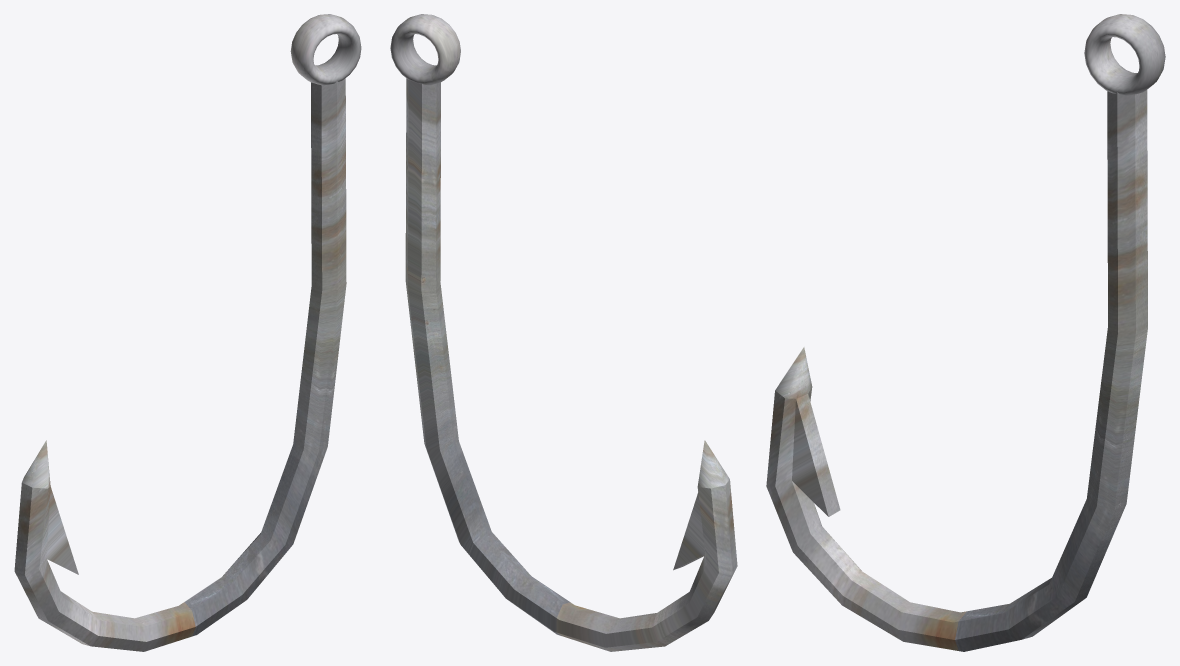
Rendered from Fishing Hook Anchor.fbx.
3 renders of one model, left to right at view 1: azimuth 30°, elevation 25°; view 2: azimuth 150°, elevation 25°; view 3: azimuth 330°, elevation 25°, orthographic. The views are drawn at different scales.
Visible parts, largest first — view 1: Fishing_Hook; view 2: Fishing_Hook; view 3: Fishing_Hook.
Part boxes in pixels (box(x1,y1,x2,y2)): Fishing_Hook: box(14, 14, 361, 651); Fishing_Hook: box(390, 14, 737, 651); Fishing_Hook: box(766, 14, 1165, 651).
Size of the model in its own units: 1.78 by 2.93 by 0.1593.
